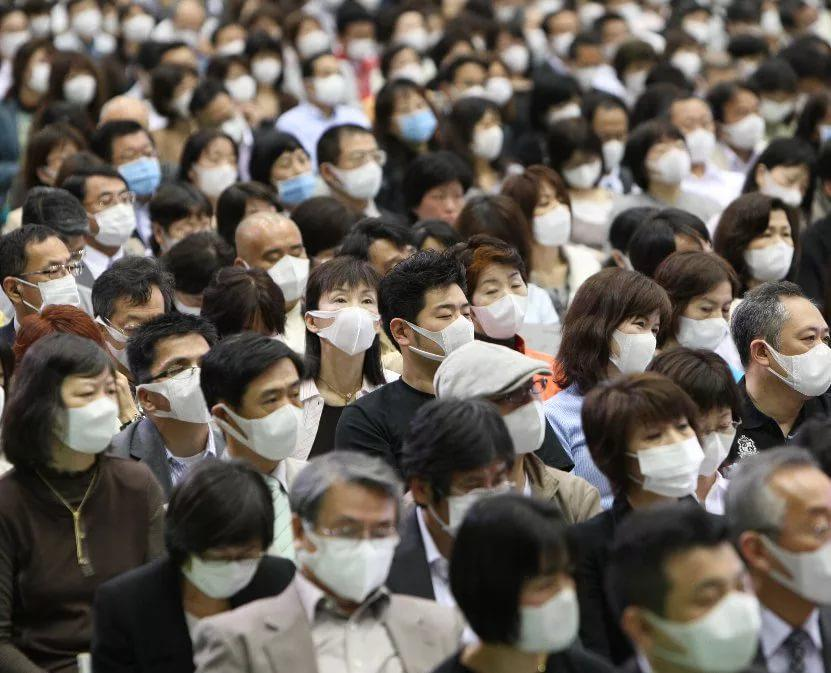mask: (663, 547, 761, 671), (312, 485, 397, 595), (432, 430, 517, 540), (763, 469, 831, 599), (764, 292, 831, 400), (140, 337, 211, 425), (57, 361, 120, 454), (240, 360, 307, 445), (413, 277, 477, 362), (633, 410, 703, 487), (241, 220, 303, 306), (314, 270, 381, 348), (194, 525, 266, 595), (469, 256, 529, 340), (500, 354, 549, 450), (732, 207, 793, 283), (27, 234, 83, 311), (682, 279, 737, 353), (82, 173, 137, 244), (612, 308, 659, 378), (340, 132, 387, 198), (526, 181, 572, 246), (757, 156, 808, 210), (192, 138, 235, 196)
none: (422, 178, 465, 229)
poor: (271, 147, 317, 202)
